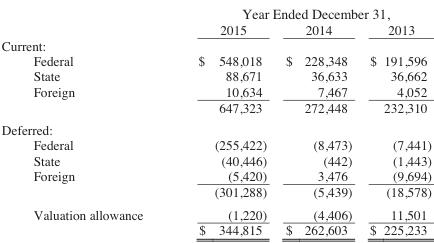table: (0, 0, 431, 240)
table column: (0, 0, 170, 240), (170, 0, 275, 240), (275, 0, 360, 240), (360, 0, 431, 240)
table column header: (0, 0, 431, 36)
table projected row header: (0, 117, 431, 136), (0, 36, 431, 51)
table row: (0, 0, 431, 20), (0, 97, 431, 117), (0, 220, 431, 240), (0, 117, 431, 136), (0, 182, 431, 201), (0, 201, 431, 220), (0, 20, 431, 36), (0, 51, 431, 67), (0, 166, 431, 182), (0, 36, 431, 51), (0, 67, 431, 82), (0, 82, 431, 97), (0, 136, 431, 151), (0, 151, 431, 166)
table spanning cell: (170, 0, 431, 20)
